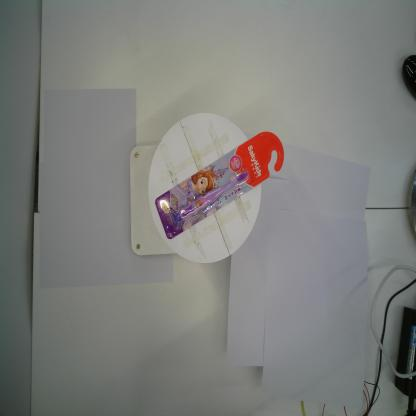Personal Hygiene: (155, 131, 284, 240)
